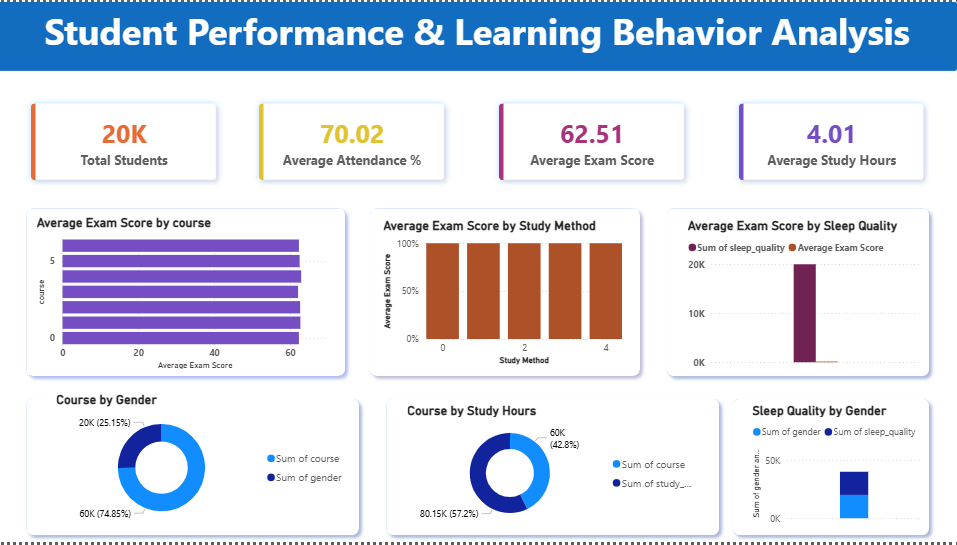

The dashboard page shown, as its layout file describes it:
{"tool":"powerbi","page":{"name":"Page 1","canvas":[1280,720],"ordinal":0},"visuals":[{"type":"shape","box":[0,0,1280,91.7],"z":0},{"type":"cardVisual","fields":{"Data":["student_exam_cleaned.Total Students"]},"box":[15,106.7,305,160],"z":2000},{"type":"cardVisual","fields":{"Data":["student_exam_cleaned.Average Attendance %"]},"box":[320,106.7,305,160],"z":3000},{"type":"cardVisual","fields":{"Data":["student_exam_cleaned.Average Exam Score"]},"box":[640,106.7,305,160],"z":4000},{"type":"cardVisual","fields":{"Data":["student_exam_cleaned.Average Study Hours"]},"box":[960,106,304,160],"z":5000},{"type":"shape","box":[30,266.7,443.3,241.7],"z":6000},{"type":"clusteredBarChart","fields":{"Category":["student_exam_cleaned.course"],"Y":["student_exam_cleaned.Average Exam Score"]},"box":[48.3,283.3,405,210],"z":7000},{"type":"shape","box":[488.3,266.7,378.3,241.7],"z":8000},{"type":"hundredPercentStackedColumnChart","title":"Average Exam Score by Study Method","fields":{"Category":["student_exam_cleaned.study_method"],"Y":["student_exam_cleaned.Average Exam Score"]},"box":[509.5,295.3,329.1,199.5],"z":9000},{"type":"shape","box":[884,266,368,242],"z":10000},{"type":"lineClusteredColumnComboChart","title":"Average Exam Score by Sleep Quality","fields":{"Y":["Sum(student_exam_cleaned.sleep_quality)","student_exam_cleaned.Average Exam Score"]},"box":[916,288,322,206],"z":11000},{"type":"shape","box":[38.3,508.3,461,210.8],"z":12000},{"type":"shape","box":[510,520,462,200],"z":13000},{"type":"donutChart","title":"Course by Gender","fields":{"Y":["Sum(student_exam_cleaned.course)","Sum(student_exam_cleaned.gender)"]},"box":[541,535.4,399,169.1],"z":14000},{"type":"donutChart","title":"Course by Study Hours","fields":{"Y":["Sum(student_exam_cleaned.course)","Sum(student_exam_cleaned.study_hours)"]},"box":[60.9,529.7,411.4,167.9],"z":15000},{"type":"shape","box":[972,520,280,200],"z":16000},{"type":"columnChart","title":"Sleep Quality by Gender","fields":{"Y":["Sum(student_exam_cleaned.gender)","Sum(student_exam_cleaned.sleep_quality)"]},"box":[1002,534,236,168],"z":17000},{"type":"textbox","box":[0,0,1280.2,91.9],"z":17001}]}

Visuals, with their boxes in screenshot pixels (x1, y1, x2, y2), scaled from the page's 1280x720 canvas onto the 957x545 screenshot:
shape: crop(0, 0, 956, 69)
cardVisual - student_exam_cleaned.Total Students: crop(11, 81, 239, 202)
cardVisual - student_exam_cleaned.Average Attendance %: crop(239, 81, 467, 202)
cardVisual - student_exam_cleaned.Average Exam Score: crop(478, 81, 707, 202)
cardVisual - student_exam_cleaned.Average Study Hours: crop(718, 80, 945, 201)
shape: crop(22, 202, 354, 385)
clusteredBarChart - student_exam_cleaned.course x student_exam_cleaned.Average Exam Score: crop(36, 214, 339, 373)
shape: crop(365, 202, 648, 385)
"Average Exam Score by Study Method" hundredPercentStackedColumnChart: crop(381, 224, 627, 375)
shape: crop(661, 201, 936, 385)
"Average Exam Score by Sleep Quality" lineClusteredColumnComboChart: crop(685, 218, 926, 374)
shape: crop(29, 385, 373, 544)
shape: crop(381, 394, 727, 544)
"Course by Gender" donutChart: crop(404, 405, 703, 533)
"Course by Study Hours" donutChart: crop(46, 401, 353, 528)
shape: crop(727, 394, 936, 544)
"Sleep Quality by Gender" columnChart: crop(749, 404, 926, 531)
textbox: crop(0, 0, 956, 70)
